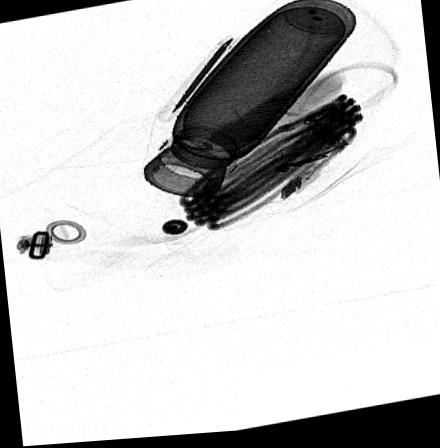Knife: (157, 37, 234, 124)
